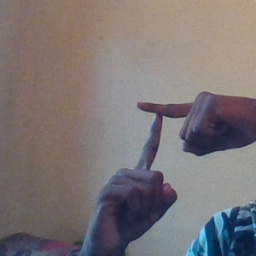T: (113, 87, 206, 190)
